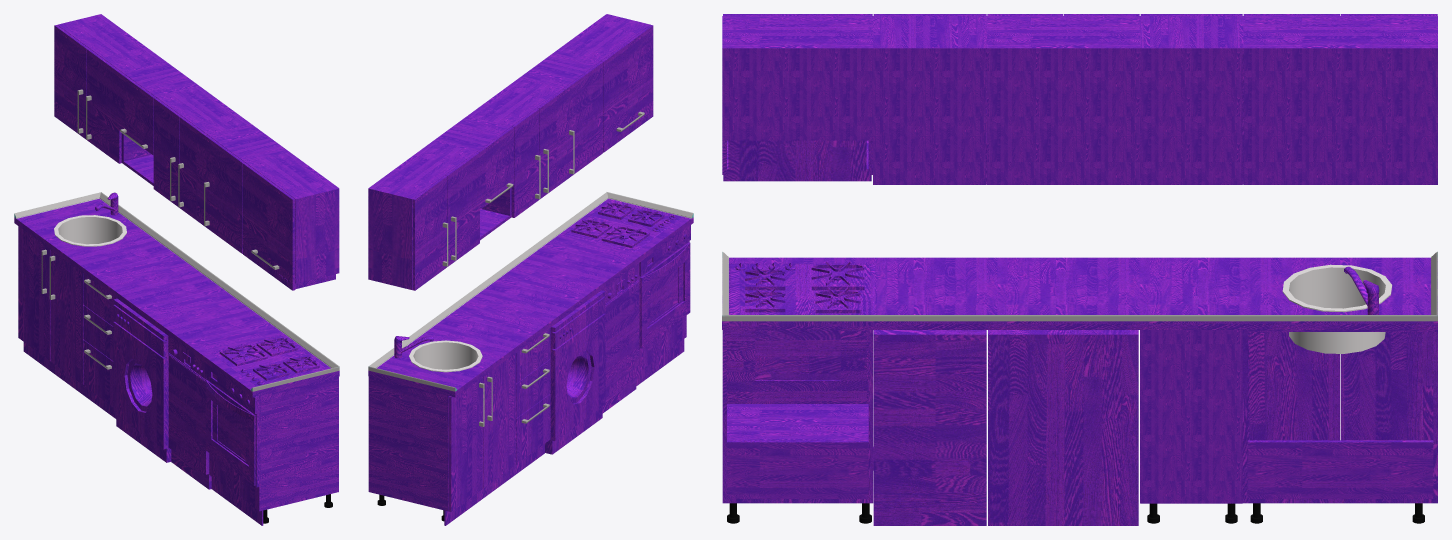
The picture shows the model from 3 angles, left to right: view 1: azimuth 30°, elevation 25°; view 2: azimuth 150°, elevation 25°; view 3: azimuth 270°, elevation 25°; orthographic projection. The views are drawn at different scales.
Parts seen in each view (by area): view 1: material-EGGER (×19), material-W (×9), material-Metal (×6), material-Paint (×4), material-Mtl_Aluminium (×3), material-Mtl_Chrome (×2), material-Glass, material-LS_GARNITURA; view 2: material-EGGER (×19), material-W (×8), material-Metal (×6), material-Paint (×4), material-Mtl_Aluminium (×3), material-Mtl_Chrome (×2), material-Glass, material-LS_GARNITURA; view 3: material-W (×19), material-EGGER (×4), material-Paint (×5), material-Metal (×3), material-Mtl_Chrome (×2), material-Mtl_Aluminium, material-Glass, material-LS_GARNITURA.
Boxes of the visible parts, x1,y1,x2,y2 form: material-EGGER (×19): (14,25,339,525); material-W (×9): (57,14,339,511); material-Metal (×6): (168,245,335,487); material-Paint (×4): (113,298,171,462); material-Mtl_Aluminium (×3): (14,192,339,391); material-Mtl_Chrome (×2): (54,215,126,246); material-Glass: (218,405,245,460); material-LS_GARNITURA: (99,192,339,368); material-EGGER (×19): (368,25,693,525); material-W (×8): (368,14,650,508); material-Metal (×6): (564,110,690,349); material-Paint (×4): (545,290,605,454); material-Mtl_Aluminium (×3): (368,192,693,391); material-Mtl_Chrome (×2): (409,340,482,372); material-Glass: (650,268,677,322); material-LS_GARNITURA: (369,192,607,368); material-W (×19): (722,16,1437,503); material-EGGER (×4): (722,257,1437,525); material-Paint (×5): (873,330,1138,525); material-Metal (×3): (723,140,874,403); material-Mtl_Chrome (×2): (1282,264,1392,353); material-Mtl_Aluminium: (722,315,1437,321); material-Glass: (755,330,840,380); material-LS_GARNITURA: (722,315,1437,316).
Bounding box in the file's own units: 0.621 × 2.1 × 2.85.
6 materials, 1 textured.
